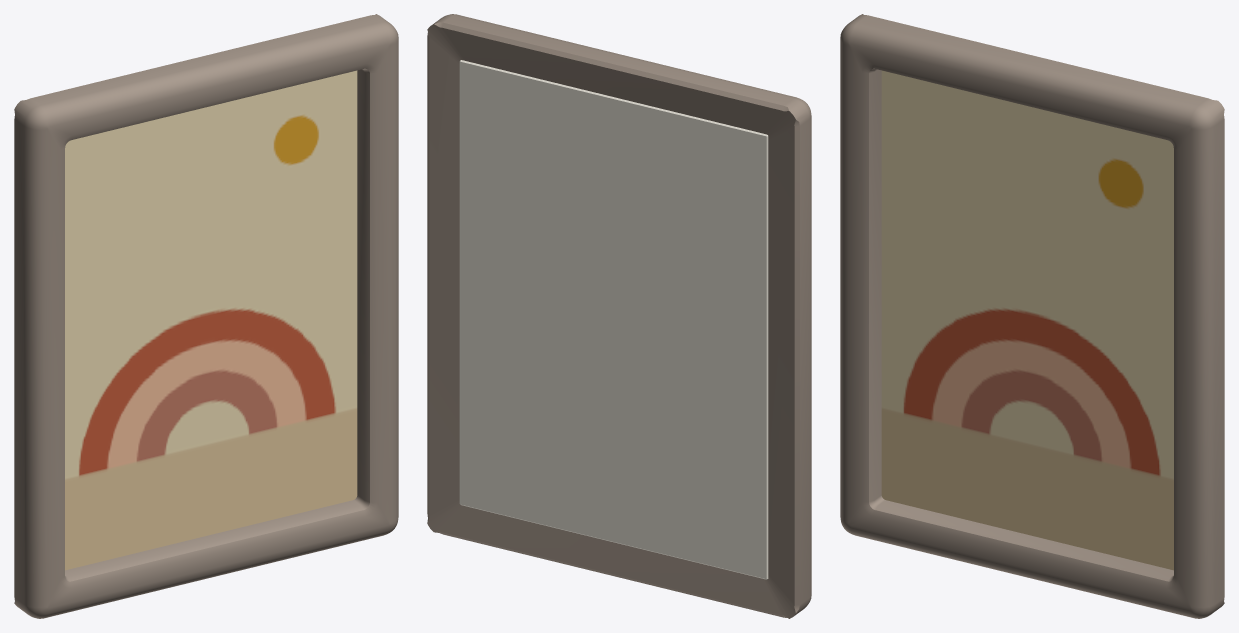
File: quadro_arcos_boho.glb
3 renders of one model, left to right at view 1: azimuth 30°, elevation 25°; view 2: azimuth 150°, elevation 25°; view 3: azimuth 330°, elevation 25°, orthographic.
Parts seen in each view (by area): view 1: quadro_arcos_boho; view 2: quadro_arcos_boho; view 3: quadro_arcos_boho.
Part boxes in pixels (x1=…): quadro_arcos_boho: x1=14, y1=14, x2=398, y2=618; quadro_arcos_boho: x1=427, y1=14, x2=811, y2=618; quadro_arcos_boho: x1=840, y1=14, x2=1224, y2=618.
Bounding box in the file's own units: 0.372 × 0.4887 × 0.035.
Materials: 2 (2 with a texture image).
